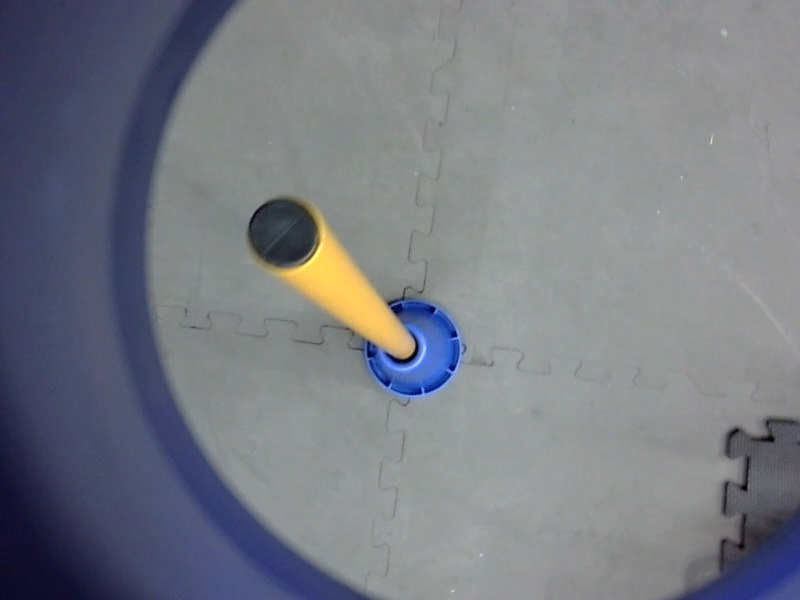tip: (237, 186, 330, 277)
